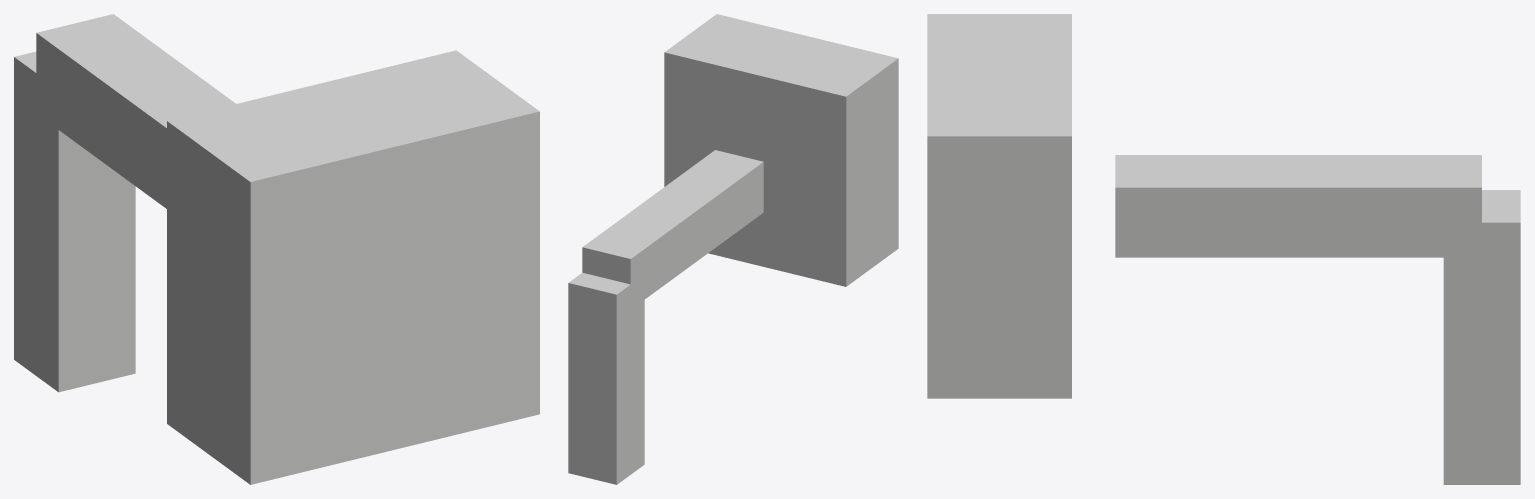
File: MocKhan.glb
The picture shows the model from 3 angles, left to right: view 1: azimuth 30°, elevation 25°; view 2: azimuth 150°, elevation 25°; view 3: azimuth 270°, elevation 25°; orthographic projection. The views are drawn at different scales.
Visible parts, largest first — view 1: geometry_0; view 2: geometry_0; view 3: geometry_0.
Boxes of the visible parts, left/top/right/bottom form: geometry_0: left=14, top=14, right=539, bottom=484; geometry_0: left=568, top=14, right=898, bottom=484; geometry_0: left=927, top=14, right=1520, bottom=484.
Size of the model in its own units: 0.03 by 0.045 by 0.0615.
Materials: 1 (1 with a texture image).
